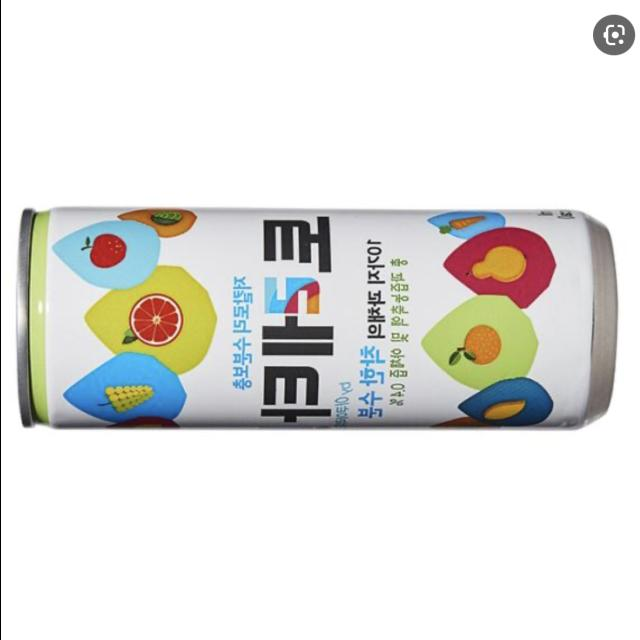can: (5, 172, 621, 466)
